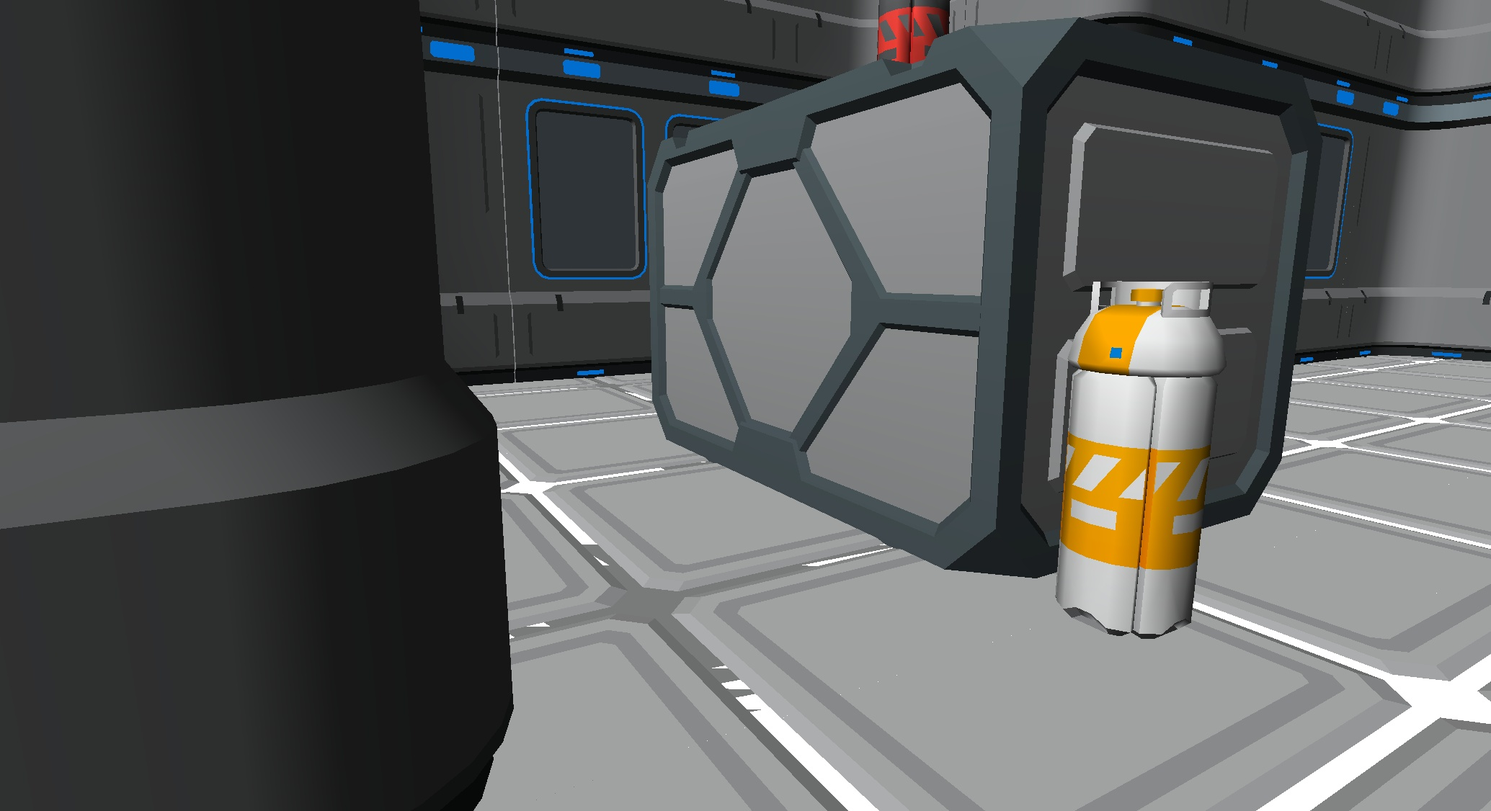red_barrel: (878, 0, 949, 62)
yellow_barrel: (1056, 282, 1225, 638)
